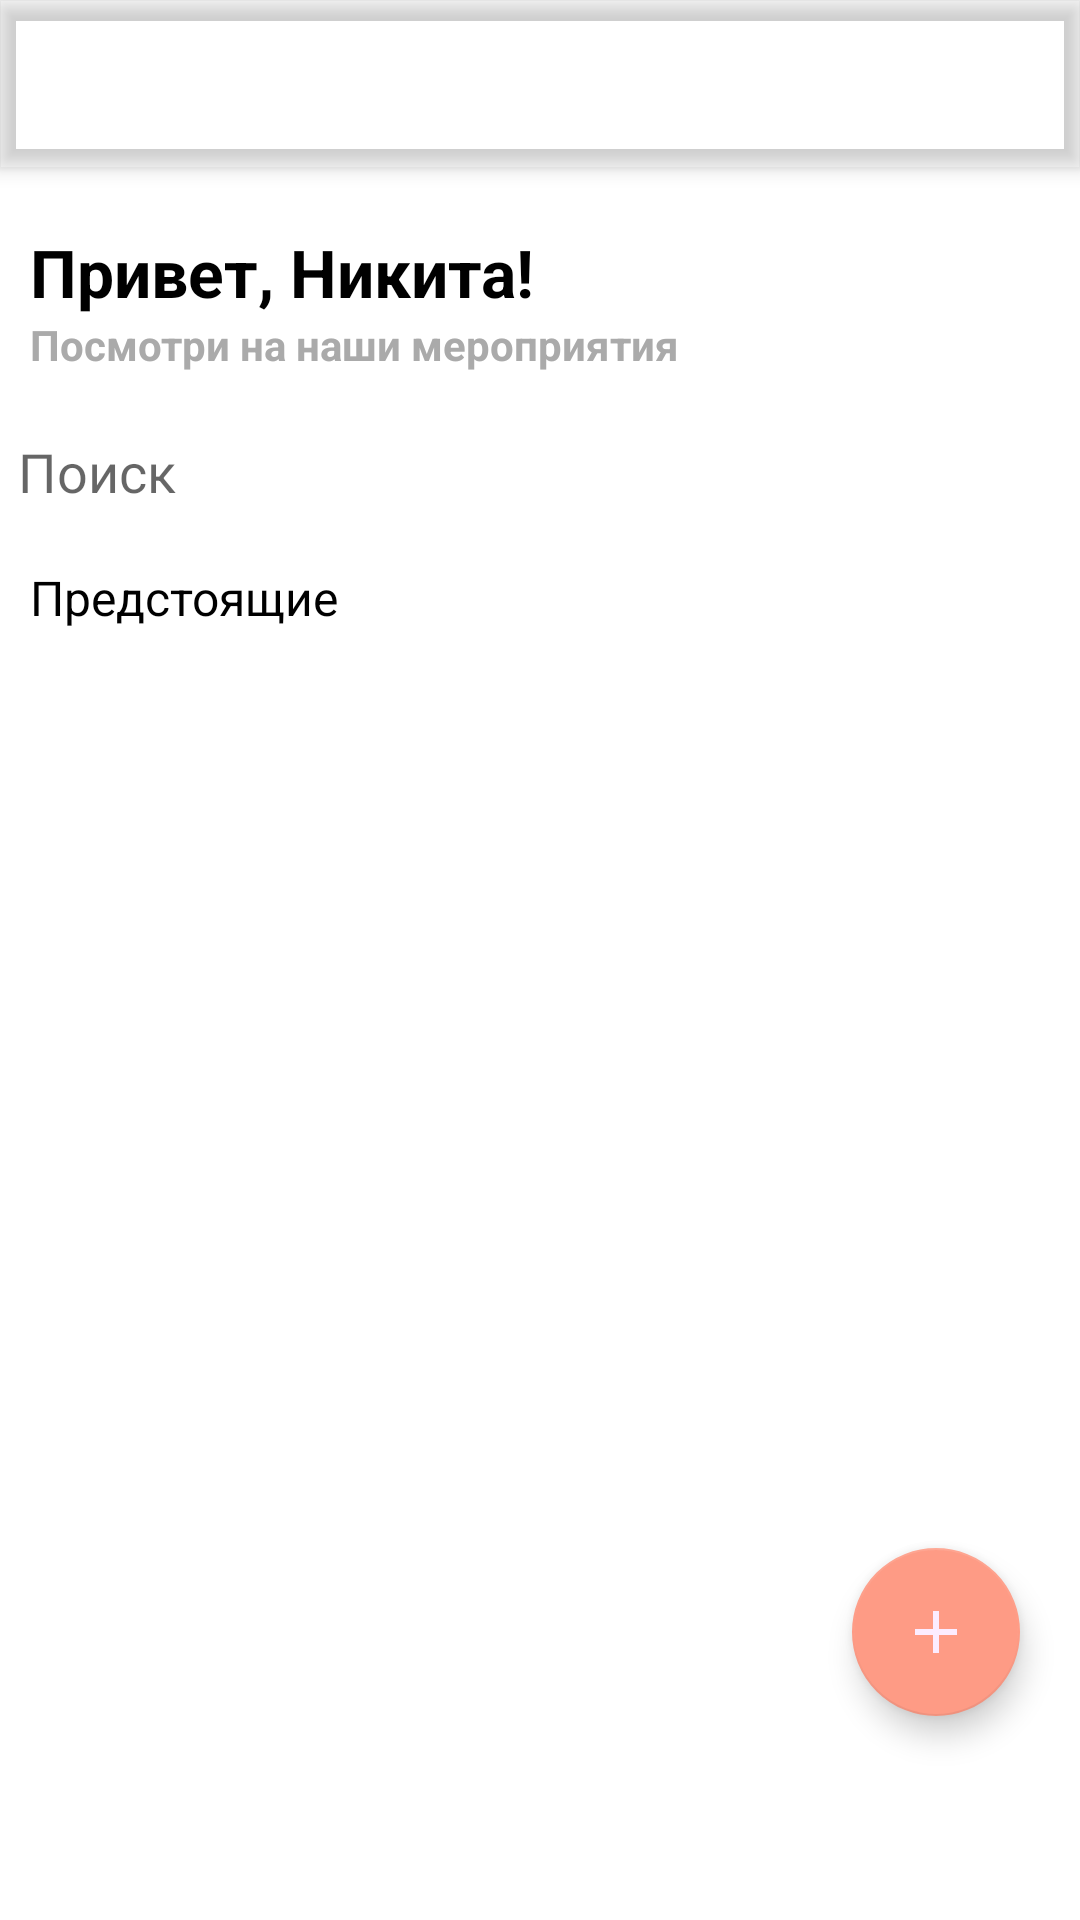

Screen size 1080×1920. Icon name, then its box in pixels as (x1, y1, x2, y2):
add: (852, 1548, 1020, 1716)
